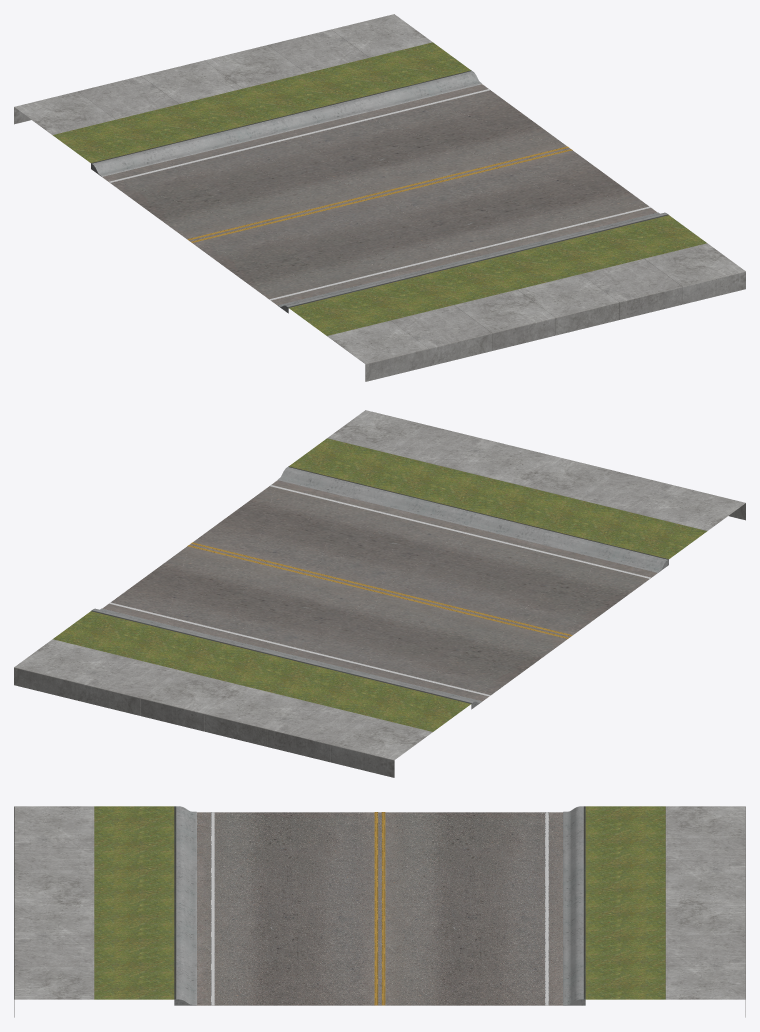
File: Road_2L_VarA.fbx
The picture shows the model from 3 angles, top to bottom: view 1: azimuth 30°, elevation 25°; view 2: azimuth 150°, elevation 25°; view 3: azimuth 270°, elevation 25°; orthographic projection. The views are drawn at different scales.
Visible parts, largest first — view 1: Road_2L_VarA_LOD0; view 2: Road_2L_VarA_LOD0; view 3: Road_2L_VarA_LOD0.
Boxes of the visible parts, bbox=[...] form: Road_2L_VarA_LOD0: bbox=[14, 14, 745, 381]; Road_2L_VarA_LOD0: bbox=[14, 410, 745, 777]; Road_2L_VarA_LOD0: bbox=[14, 806, 745, 1017].
Size of what is drawn, in the model's own units: 1000 by 44.83 by 1601.
